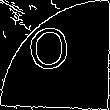O_S: (33, 29, 77, 81)
